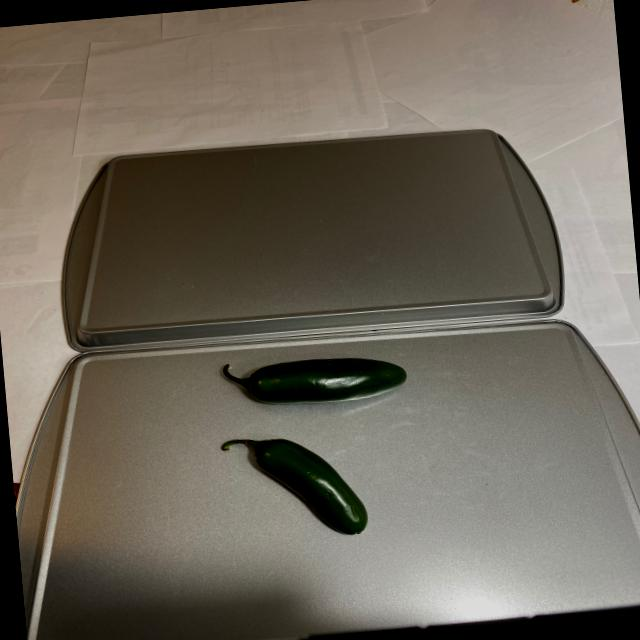chilli: (203, 350, 424, 549)
